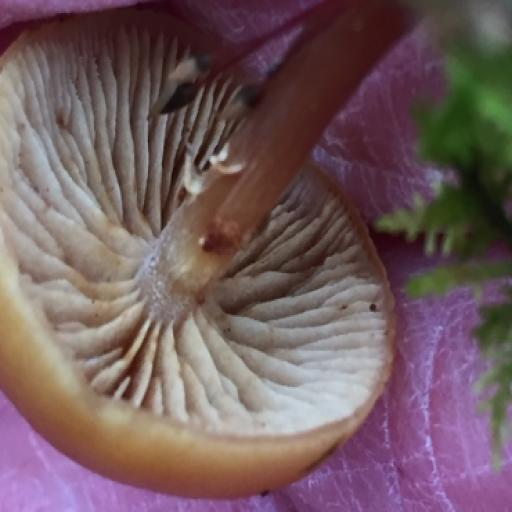mushroom: (4, 4, 444, 499)
